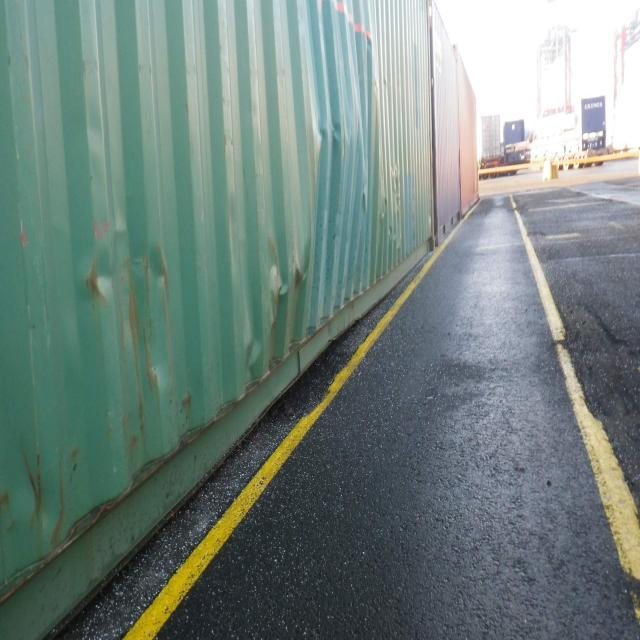dent: (267, 239, 307, 320), (85, 245, 115, 301), (147, 243, 173, 294), (151, 355, 174, 397), (332, 119, 343, 147), (319, 123, 329, 148)
